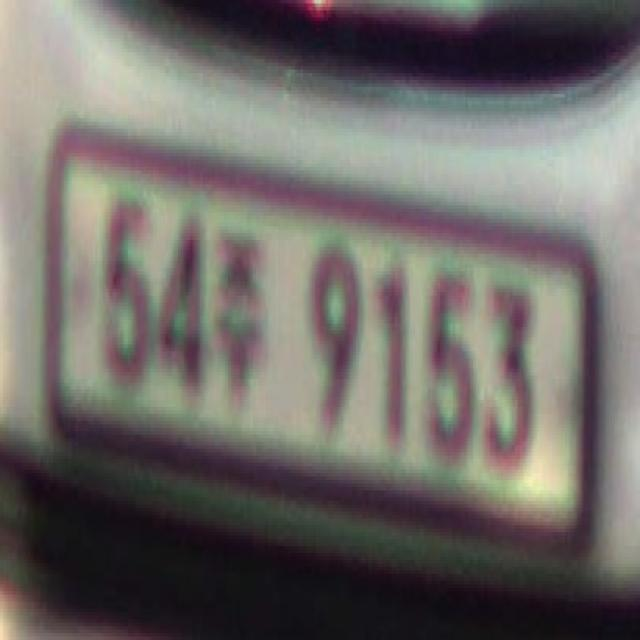1: (373, 237, 415, 473)
3: (484, 268, 540, 473)
4: (151, 177, 211, 407)
5: (420, 250, 476, 477), (102, 184, 152, 393)
9: (296, 198, 366, 438)
ju: (203, 223, 282, 424)
license_plate: (30, 115, 602, 584)
